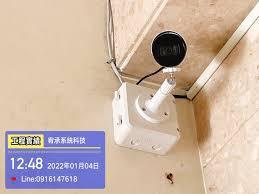Monitor: (119, 16, 231, 162)
